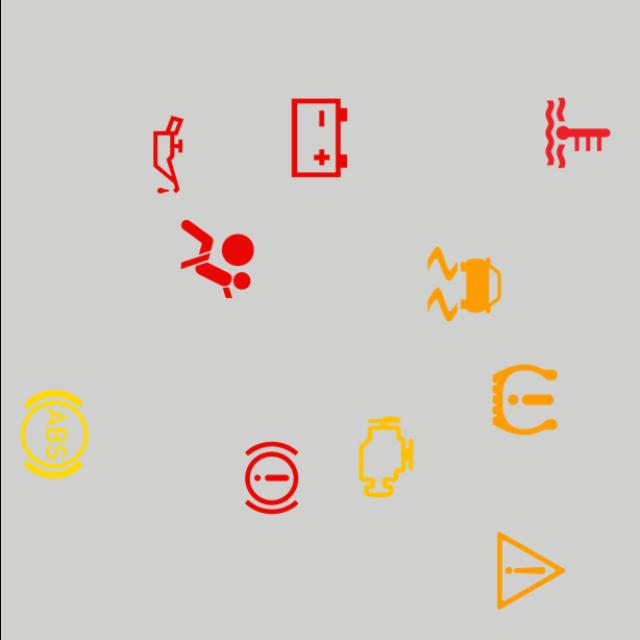Anti Lock Braking System: (5, 386, 102, 482)
Braking System Issue: (222, 429, 319, 526)
Charging System Issue: (270, 90, 367, 186)
Check Engine: (336, 408, 434, 506)
Electronic Stability Problem -ESP-: (415, 235, 512, 332)
Engine Overheating Warning Light: (528, 85, 626, 182)
Low Engine Oil Warning Light: (119, 106, 216, 204)
Low Tire Pressure Warning Light: (476, 351, 572, 448)
Master warning light: (482, 522, 578, 619)
SRS-Airbag: (168, 210, 265, 308)
